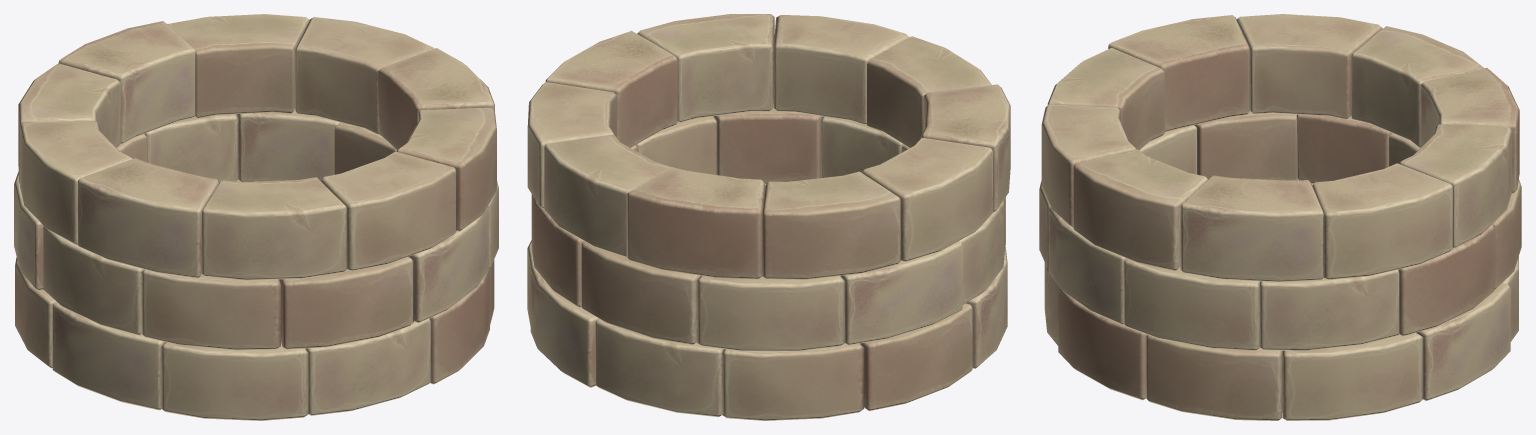
Rendered from towerpiece.fbx.
The picture shows the model from 3 angles, left to right: view 1: azimuth 30°, elevation 25°; view 2: azimuth 150°, elevation 25°; view 3: azimuth 270°, elevation 25°; orthographic projection.
Visible parts, largest first — view 1: towerpiece_LOD0; view 2: towerpiece_LOD0; view 3: towerpiece_LOD0.
Boxes of the visible parts, <box> form: towerpiece_LOD0: <box>14,14,498,420</box>; towerpiece_LOD0: <box>527,14,1010,420</box>; towerpiece_LOD0: <box>1039,14,1521,420</box>.
Bounding box in the file's own units: 5.27 × 2.52 × 5.27.
